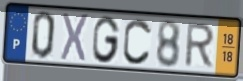0: (29, 9, 57, 61)
8: (154, 19, 181, 70)
C: (121, 17, 153, 67)
G: (91, 15, 122, 65)
R: (182, 22, 217, 70)
X: (59, 11, 91, 65)
